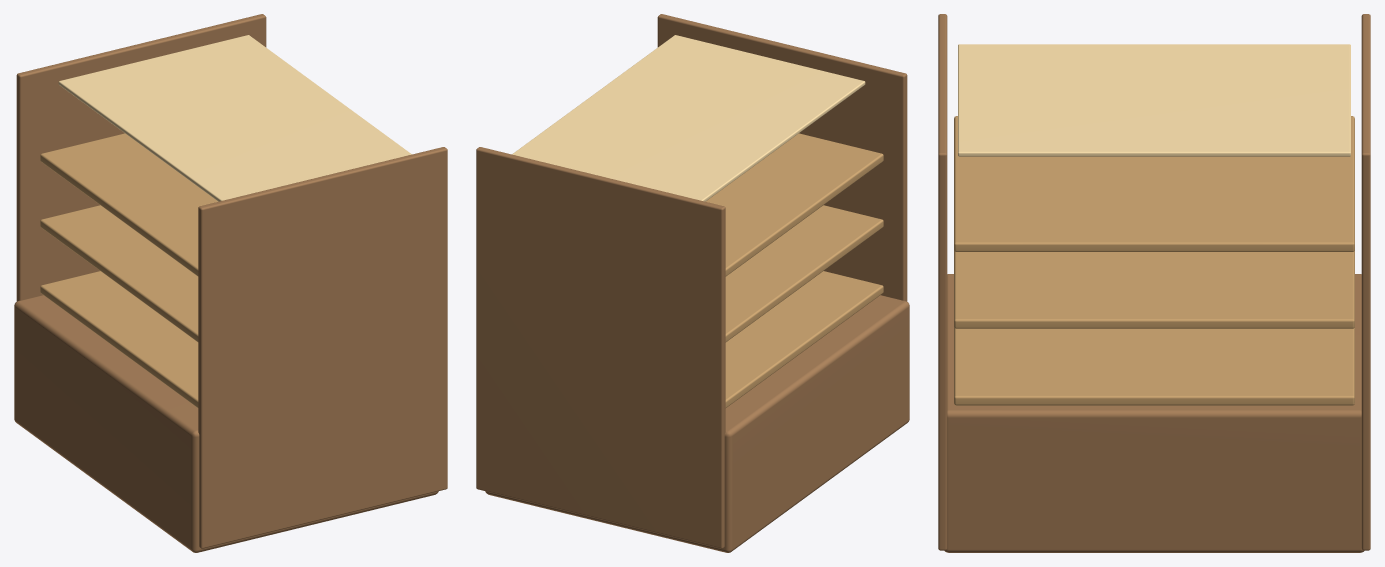
The model's file is SM_EG_BakeryWallCabinet_484300892f.fbx.
The picture shows the model from 3 angles, left to right: view 1: azimuth 30°, elevation 25°; view 2: azimuth 150°, elevation 25°; view 3: azimuth 270°, elevation 25°; orthographic projection. The views are drawn at different scales.
Parts seen in each view (by area): view 1: SM_EG_BakeryWallCabinet_484300892f; view 2: SM_EG_BakeryWallCabinet_484300892f; view 3: SM_EG_BakeryWallCabinet_484300892f.
Part boxes in pixels (x1,y1,x2,y2): SM_EG_BakeryWallCabinet_484300892f: [14, 14, 447, 552]; SM_EG_BakeryWallCabinet_484300892f: [476, 14, 909, 552]; SM_EG_BakeryWallCabinet_484300892f: [938, 14, 1370, 552].
Size of what is drawn, in the model's own units: 225 by 286 by 295.
